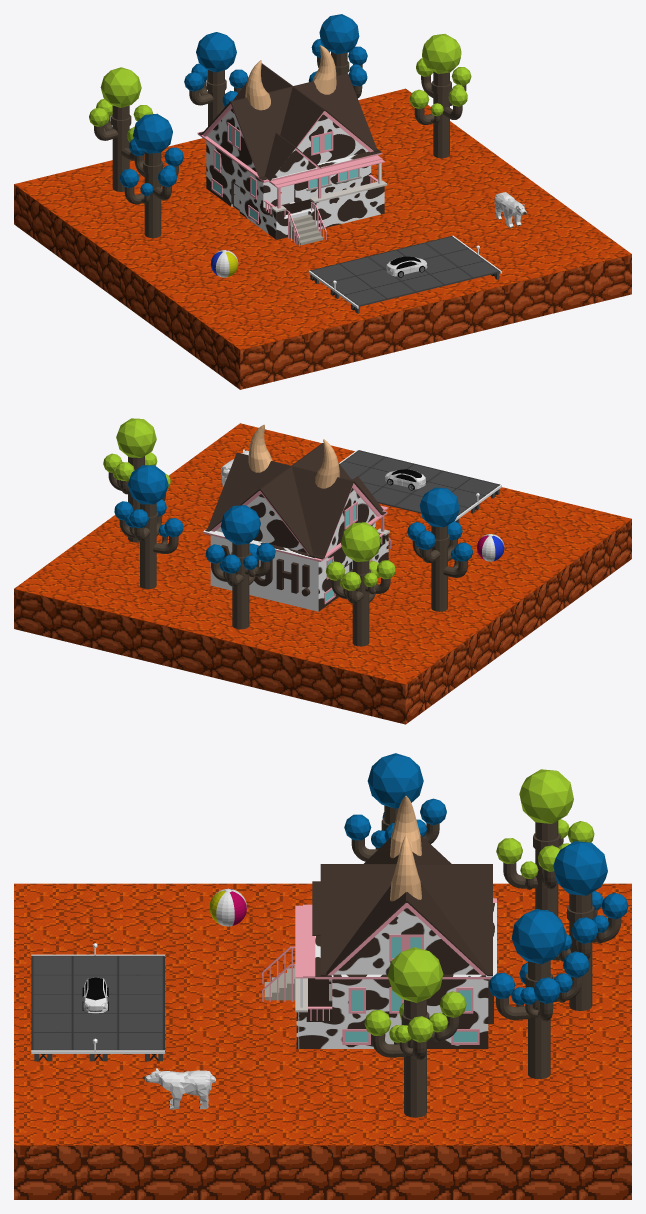
The picture shows the model from 3 angles, top to bottom: view 1: azimuth 30°, elevation 25°; view 2: azimuth 150°, elevation 25°; view 3: azimuth 270°, elevation 25°; orthographic projection. The views are drawn at different scales.
Parts seen in each view (by area): view 1: Cube.001, Cube.1242, ANIMAL_OSO_POLAR, VEHICLES_TESLA, OBJRANDOM_BEACHBALL; view 2: Cube.001, Cube.1242, VEHICLES_TESLA, OBJRANDOM_BEACHBALL; view 3: Cube.001, Cube.1242, ANIMAL_OSO_POLAR, OBJRANDOM_BEACHBALL, VEHICLES_TESLA.
Boxes of the visible parts, x1=… form: Cube.001: x1=14, y1=14, x2=631, y2=389; Cube.1242: x1=197, y1=45, x2=387, y2=246; ANIMAL_OSO_POLAR: x1=494, y1=192, x2=526, y2=228; VEHICLES_TESLA: x1=386, y1=256, x2=427, y2=277; OBJRANDOM_BEACHBALL: x1=211, y1=250, x2=238, y2=277; Cube.001: x1=14, y1=418, x2=631, y2=724; Cube.1242: x1=202, y1=424, x2=391, y2=611; VEHICLES_TESLA: x1=385, y1=469, x2=425, y2=490; OBJRANDOM_BEACHBALL: x1=477, y1=534, x2=504, y2=561; Cube.001: x1=14, y1=753, x2=631, y2=1199; Cube.1242: x1=262, y1=796, x2=496, y2=1048; ANIMAL_OSO_POLAR: x1=142, y1=1068, x2=215, y2=1109; OBJRANDOM_BEACHBALL: x1=209, y1=888, x2=246, y2=926; VEHICLES_TESLA: x1=82, y1=977, x2=108, y2=1013.
Bounding box in the file's own units: 4000 × 1983 × 4000.
35 materials, 4 textured.
